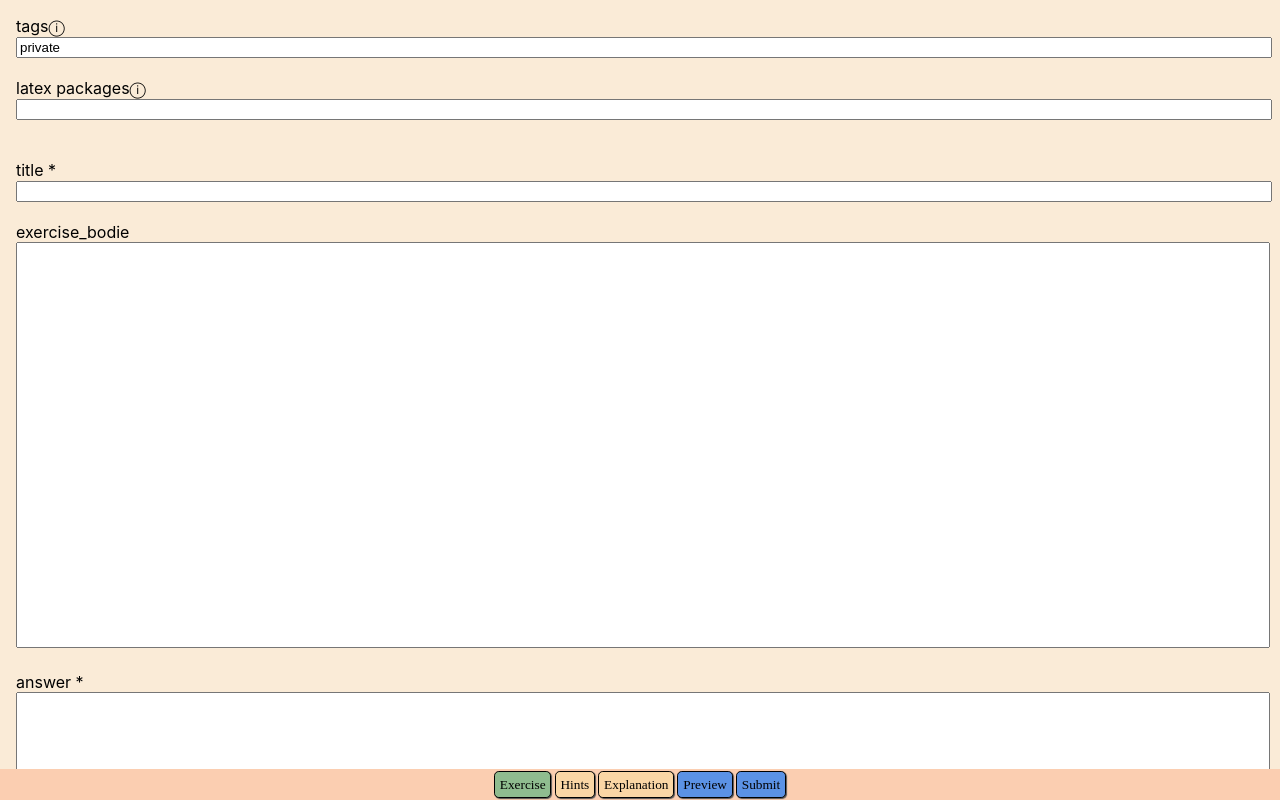
Test: NewPage › when "hints" tab is selected
Click the button "Hints" at (575, 785), box [555,771,595,798]
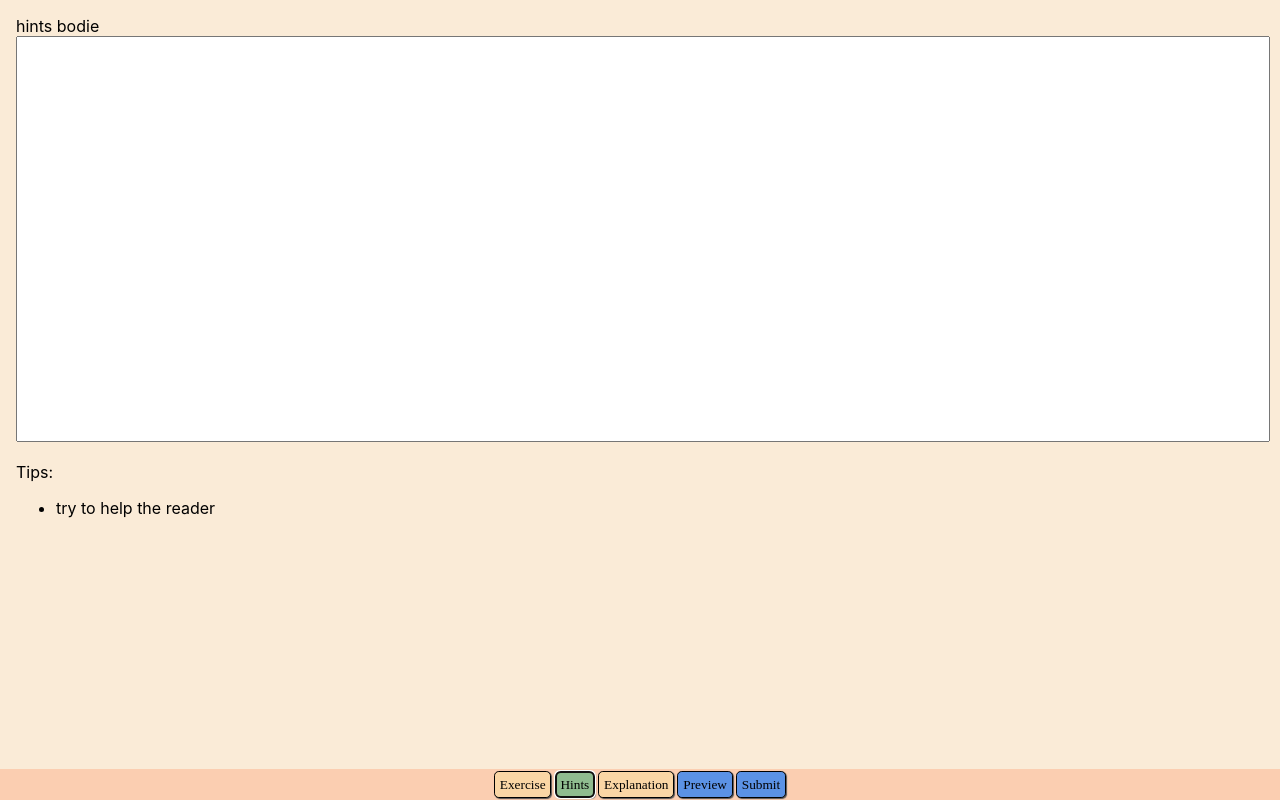
Check: the text box labelled "hints bodie" is shown, box [16,36,1270,442]
